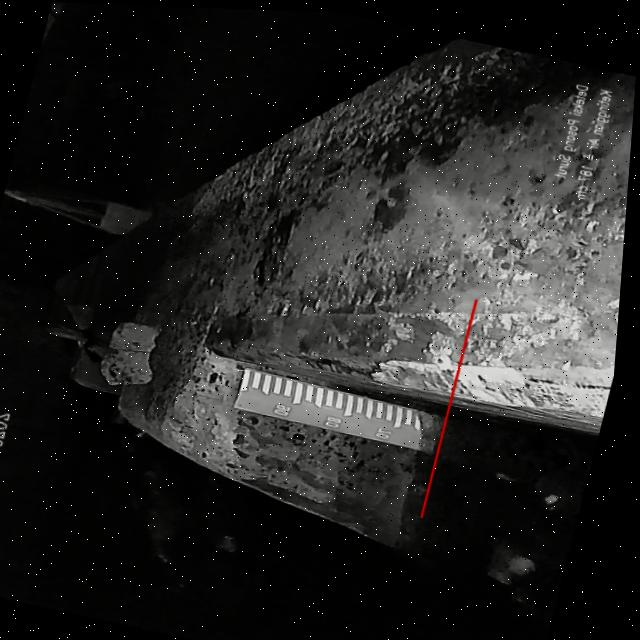water-meter: (217, 359, 458, 458)
